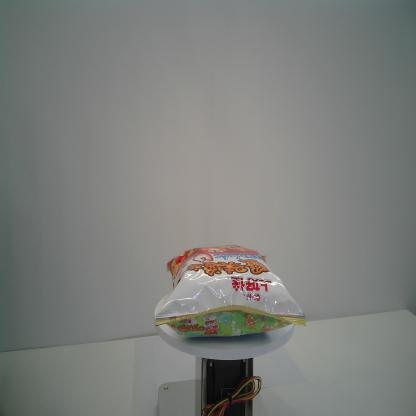Puffed Food: (152, 245, 307, 339)
